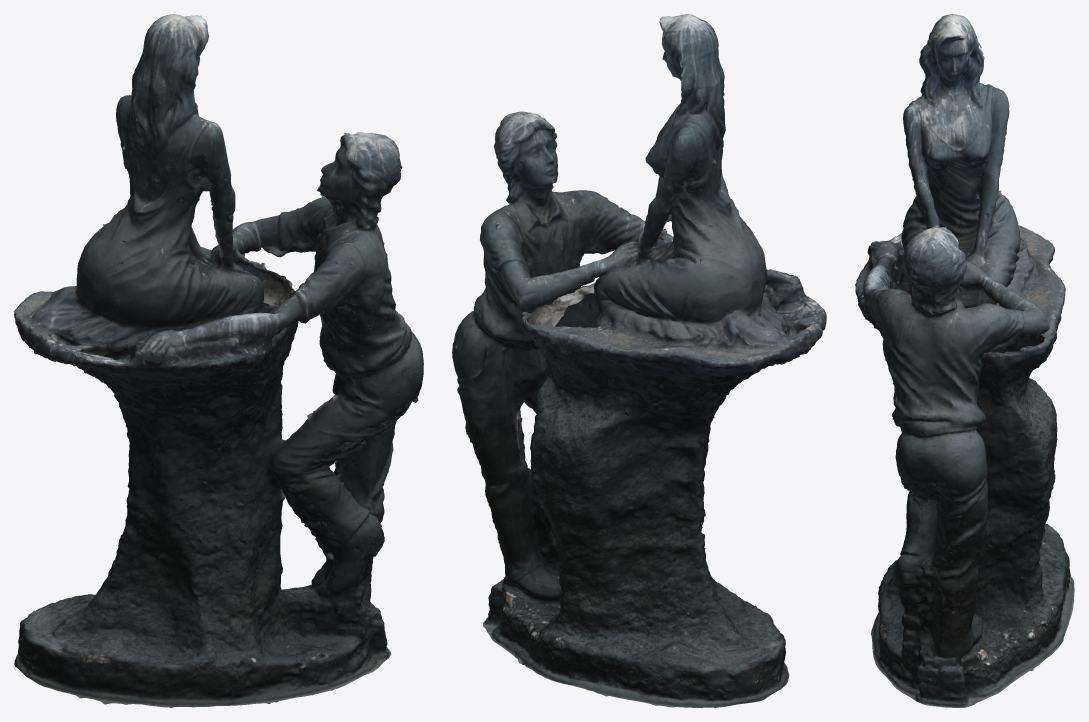
The model's file is sculpture_f9c0755c.glb.
3 views of the same model, side by side, from view 1: azimuth 30°, elevation 25°; view 2: azimuth 150°, elevation 25°; view 3: azimuth 270°, elevation 25° (orthographic). The views are drawn at different scales.
Parts seen in each view (by area): view 1: Object_3, Object_4; view 2: Object_3, Object_4; view 3: Object_3, Object_4.
Boxes of the visible parts, x1,y1,x2,y2 form: Object_3: (14,14,423,707); Object_4: (61,48,423,707); Object_3: (453,14,826,707); Object_4: (452,22,788,707); Object_3: (855,14,1074,707); Object_4: (892,24,1074,685).
Bounding box in the file's own units: 4.26 × 7.34 × 2.42.
Materials: 1 (1 with a texture image).
